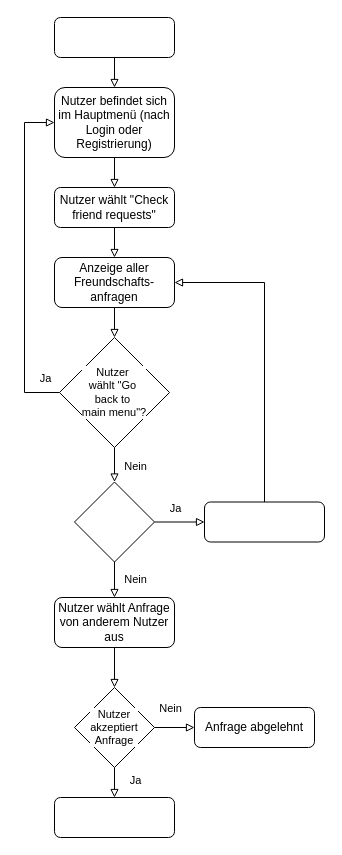
Some shapes in this 342 by 855 pixel diagram are drawn without their labels. The shapes that lost their labels are listed below. From the top down, each one's centre as x and y in pixels, then its label:
pixel 114 37: Nutzer hat die App gestartet
pixel 114 521: Nutzer wählt "Refresh"?
pixel 264 521: Anfragen werden aktualisiert
pixel 114 817: Anfrage angenommen
